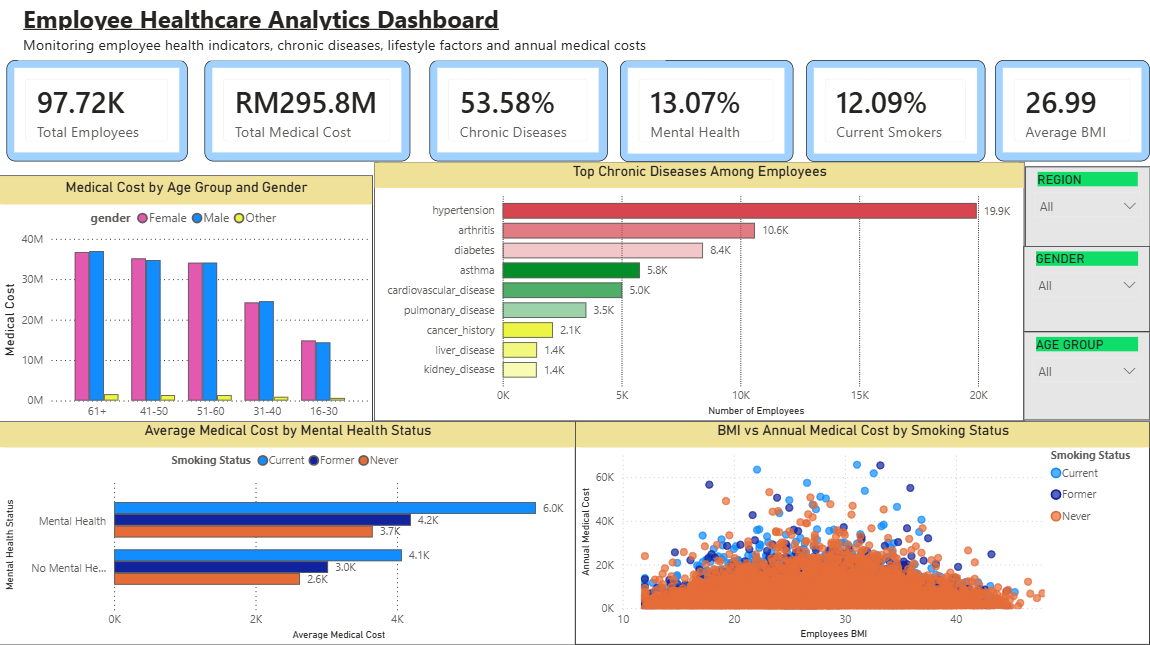

What the dashboard file says about the page in this screenshot:
{"tool":"powerbi","page":{"name":"Page 1","canvas":[1280,720],"ordinal":0},"visuals":[{"type":"cardVisual","fields":{"Data":["patient_details.Total Employees"]},"box":[8,70.8,201.2,112.7],"z":0},{"type":"cardVisual","fields":{"Data":["patient_details.Total Medical Cost"]},"box":[228.5,70.8,228.5,112.7],"z":1000},{"type":"cardVisual","fields":{"Data":["patient_details.Mental Health"]},"box":[690.4,70.8,192.7,113.3],"z":2000},{"type":"cardVisual","fields":{"Data":["patient_details.Current Smokers"]},"box":[896.4,70.8,199.2,113.3],"z":3000},{"type":"cardVisual","fields":{"Data":["patient_details.Chronic Diseases"]},"box":[478,70.8,198,112.7],"z":4000},{"type":"clusteredColumnChart","title":"Medical Cost by Age Group and Gender","fields":{"Category":["patient_details.Age Group"],"Y":["Sum(patient_details.annual_medical_cost)"],"Series":["patient_details.gender"]},"box":[0,199.2,415.2,288.1],"z":5000},{"type":"clusteredBarChart","title":"Top Chronic Diseases Among Employees","fields":{"Category":["diseases.disease"],"Y":["CountNonNull(diseases.person_id)"]},"box":[416.8,183.5,722.6,288.1],"z":6000},{"type":"scatterChart","title":"BMI vs Annual Medical Cost by Smoking Status","fields":{"Category":["patient_details.person_id"],"X":["Avg(patient_details.bmi)"],"Y":["Avg(patient_details.annual_medical_cost)"],"Series":["patient_details.smoker"]},"box":[640.5,471.6,638.9,247.8],"z":7000},{"type":"textbox","box":[21,0,940.8,51.8],"z":8000},{"type":"textbox","box":[21,37.2,718.9,34],"z":9000},{"type":"actionButton","box":[0,0,100,40],"z":10000},{"type":"clusteredBarChart","title":"Average Medical Cost by Mental Health Status","fields":{"Category":["patient_details.Mental Health Status"],"Y":["Avg(patient_details.annual_medical_cost)"],"Series":["patient_details.smoker"]},"box":[0,471.1,640.5,248.5],"z":11000},{"type":"slicer","fields":{"Values":["patient_details.region"]},"box":[1139.9,187.8,139.3,89.1],"z":12000},{"type":"slicer","fields":{"Values":["patient_details.gender"]},"box":[1138.3,276.9,140.9,95.5],"z":13000},{"type":"cardVisual","fields":{"Data":["patient_details.Average BMI"]},"box":[1107.3,70.8,172.2,112.7],"z":14000},{"type":"slicer","fields":{"Values":["patient_details.Age Group"]},"box":[1138.3,372.4,140.9,98.8],"z":15000}]}

Visuals, with their boxes in screenshot pixels (x1, y1, x2, y2), scaled from the page's 1280x720 canvas onto the 1150x645 screenshot:
cardVisual - patient_details.Total Employees: {"left": 7, "top": 63, "right": 188, "bottom": 164}
cardVisual - patient_details.Total Medical Cost: {"left": 205, "top": 63, "right": 411, "bottom": 164}
cardVisual - patient_details.Mental Health: {"left": 620, "top": 63, "right": 793, "bottom": 165}
cardVisual - patient_details.Current Smokers: {"left": 805, "top": 63, "right": 984, "bottom": 165}
cardVisual - patient_details.Chronic Diseases: {"left": 429, "top": 63, "right": 607, "bottom": 164}
"Medical Cost by Age Group and Gender" clusteredColumnChart: {"left": 0, "top": 178, "right": 373, "bottom": 437}
"Top Chronic Diseases Among Employees" clusteredBarChart: {"left": 374, "top": 164, "right": 1024, "bottom": 422}
"BMI vs Annual Medical Cost by Smoking Status" scatterChart: {"left": 575, "top": 422, "right": 1149, "bottom": 644}
textbox: {"left": 19, "top": 0, "right": 864, "bottom": 46}
textbox: {"left": 19, "top": 33, "right": 665, "bottom": 64}
actionButton: {"left": 0, "top": 0, "right": 90, "bottom": 36}
"Average Medical Cost by Mental Health Status" clusteredBarChart: {"left": 0, "top": 422, "right": 575, "bottom": 644}
slicer - patient_details.region: {"left": 1024, "top": 168, "right": 1149, "bottom": 248}
slicer - patient_details.gender: {"left": 1023, "top": 248, "right": 1149, "bottom": 334}
cardVisual - patient_details.Average BMI: {"left": 995, "top": 63, "right": 1149, "bottom": 164}
slicer - patient_details.Age Group: {"left": 1023, "top": 334, "right": 1149, "bottom": 422}
